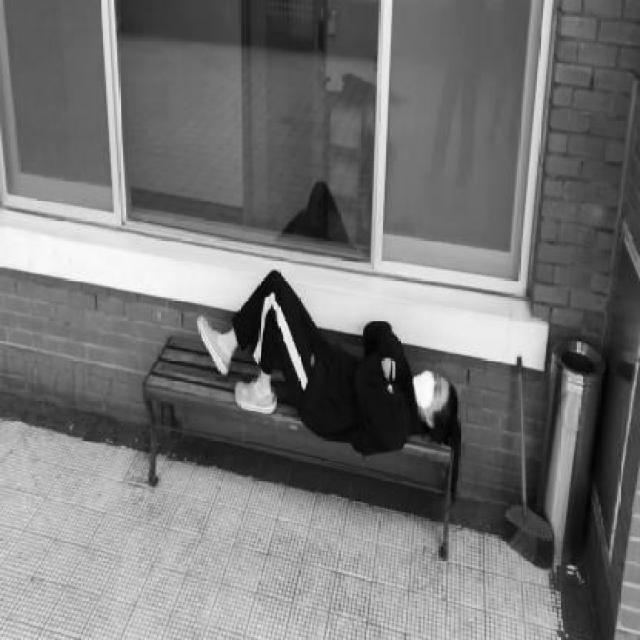person: (195, 273, 457, 452)
